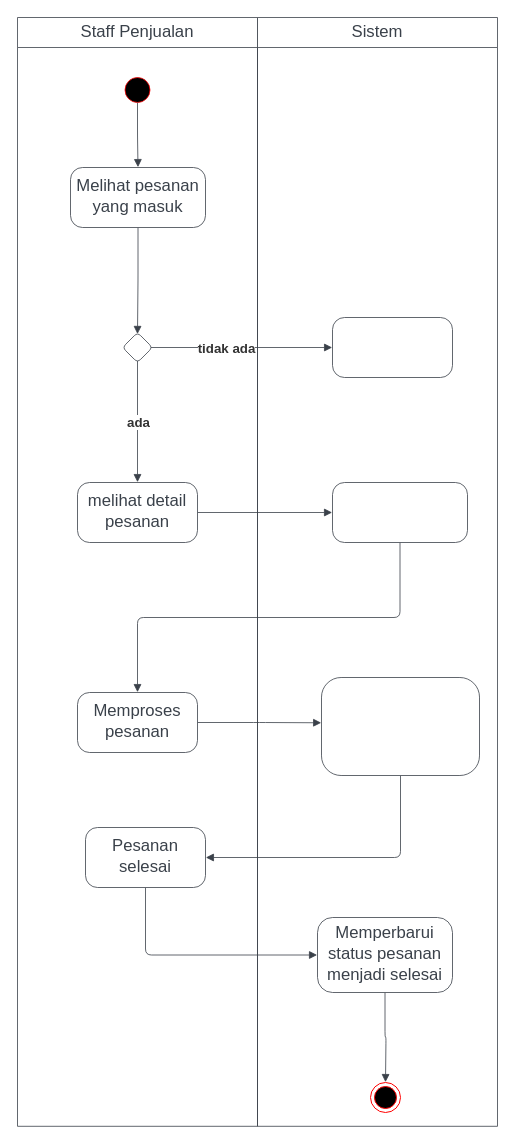
The diagram is 515 pixels wide and 1144 high, and some of its shapes have lost their labels. Here are the shapes that lost their labels. From the top down, the centre of each, then its label:
At pixel 392 347: "tidak ada pesanan".
At pixel 399 512: "menampilkan detail pesanan".
At pixel 400 726: "Memperbarui status pesanan menjadi pesanan sedang diproses".
